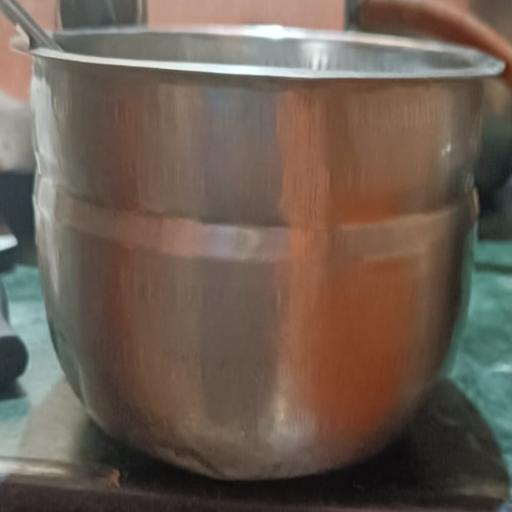vessel: (32, 27, 503, 479)
